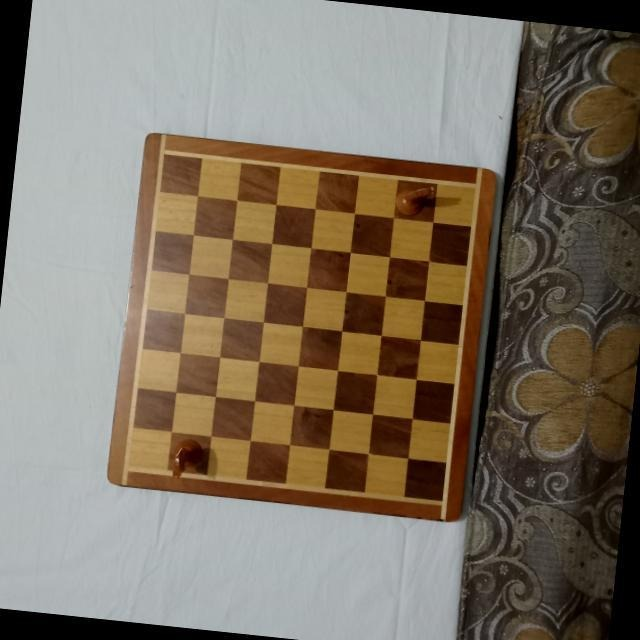white-knight: (165, 433, 205, 482), (395, 177, 437, 217)
